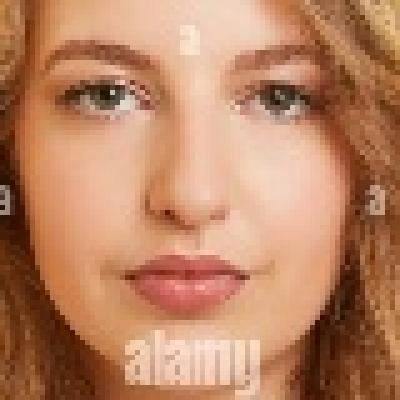netural: (26, 1, 358, 371)
